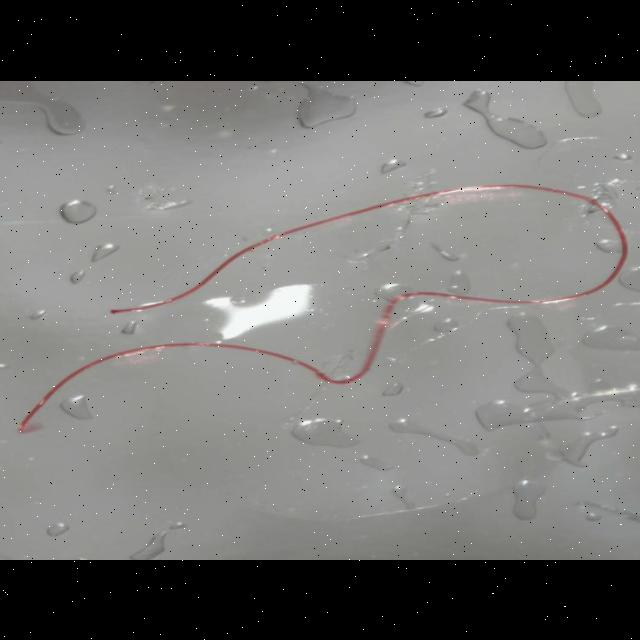Fibre: (12, 180, 630, 434)
